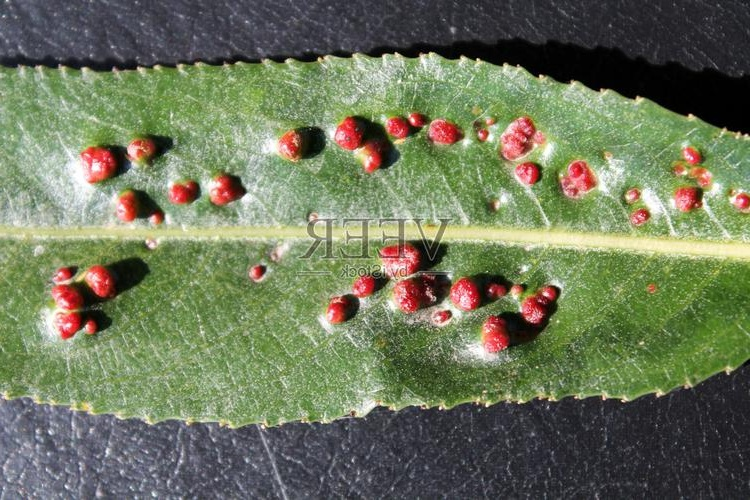Gall_Mite: (84, 123, 736, 227), (331, 239, 573, 356), (27, 234, 193, 334)
